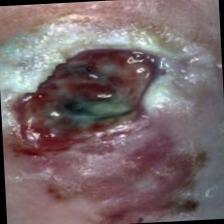wound-ulser: (0, 23, 189, 164)
